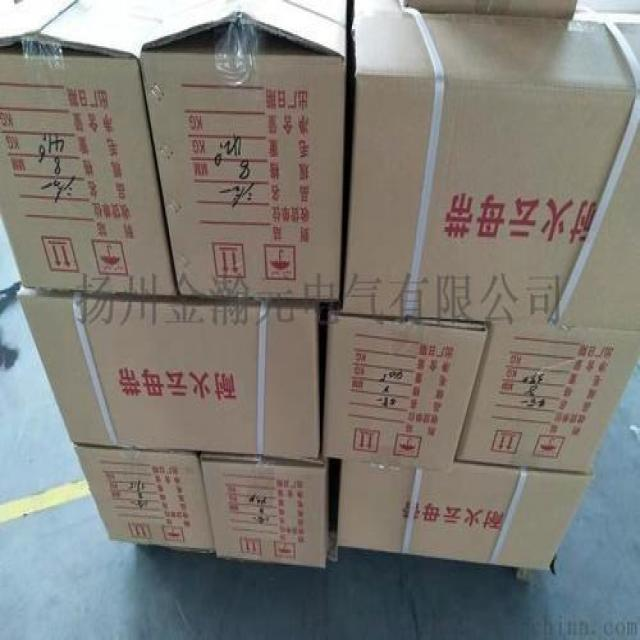box: (342, 0, 640, 335), (135, 0, 349, 305), (0, 0, 180, 304), (17, 285, 327, 449), (334, 450, 592, 575), (460, 304, 640, 481), (328, 313, 487, 467), (71, 440, 221, 560), (200, 442, 329, 570)
